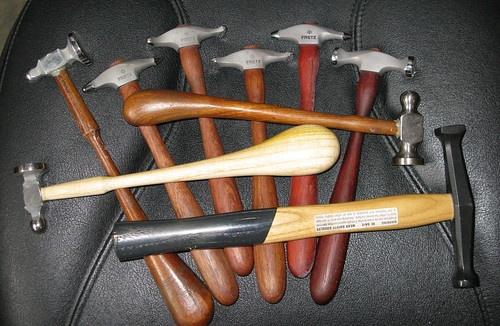hammer: (112, 128, 484, 305), (24, 30, 209, 315), (83, 59, 241, 291), (16, 126, 342, 228), (149, 15, 274, 278), (122, 61, 426, 164), (317, 42, 411, 298), (214, 43, 303, 298), (273, 15, 342, 276)
